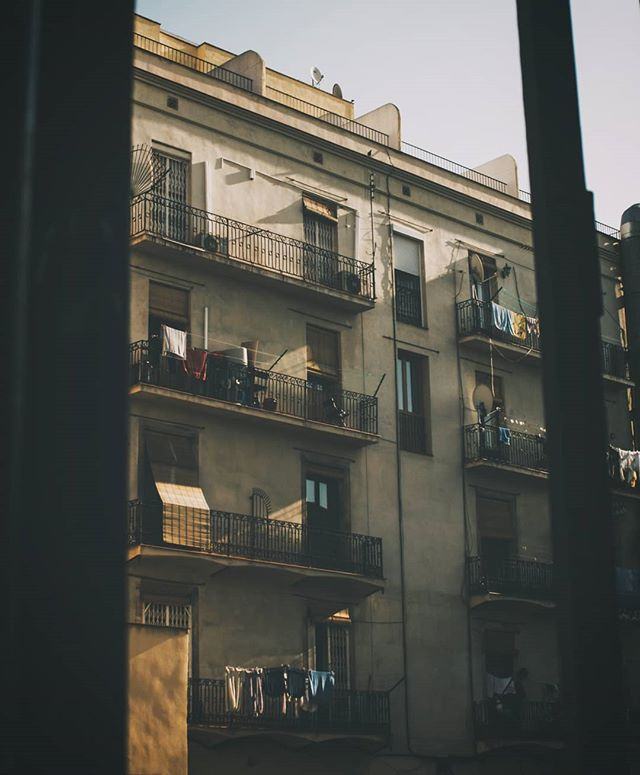building: (122, 45, 631, 775)
sky: (235, 1, 623, 164)
